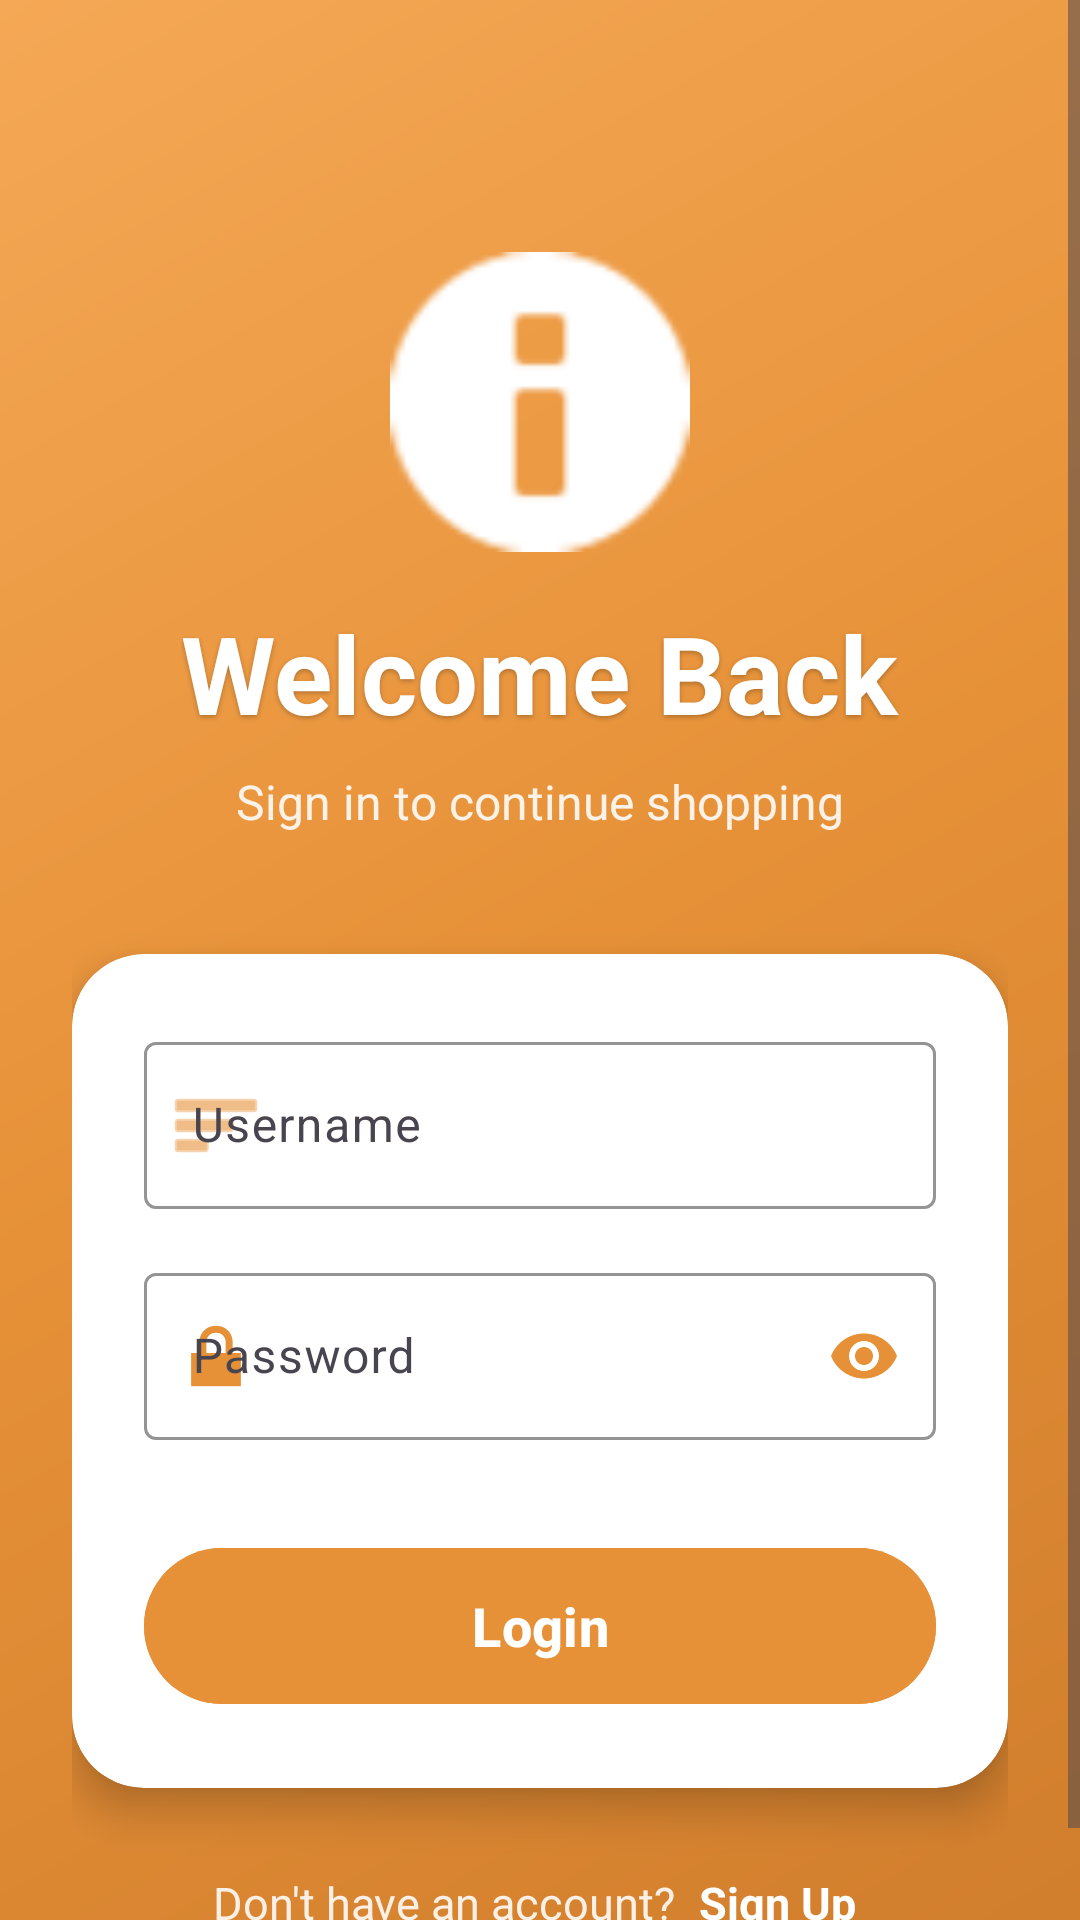

Where icons sit on this 1080×1920 app screen, as bbox(x1, y1, x2, y2):
info: bbox(390, 252, 690, 552)
